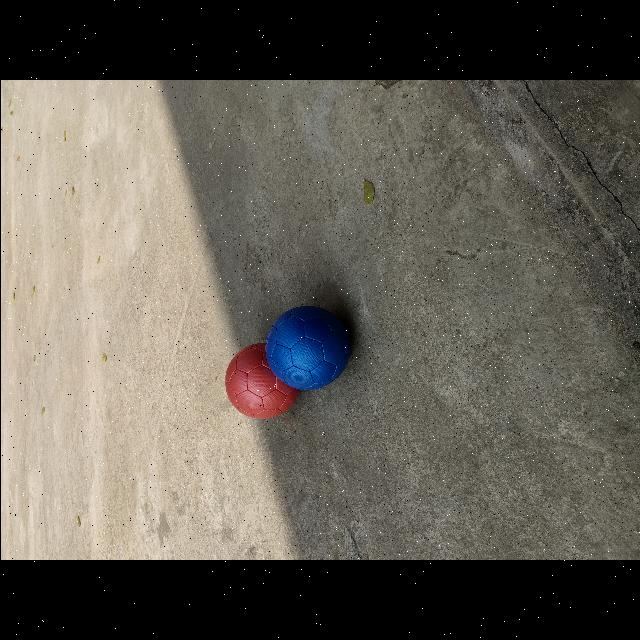B: (264, 306, 350, 390)
R: (224, 343, 298, 419)
